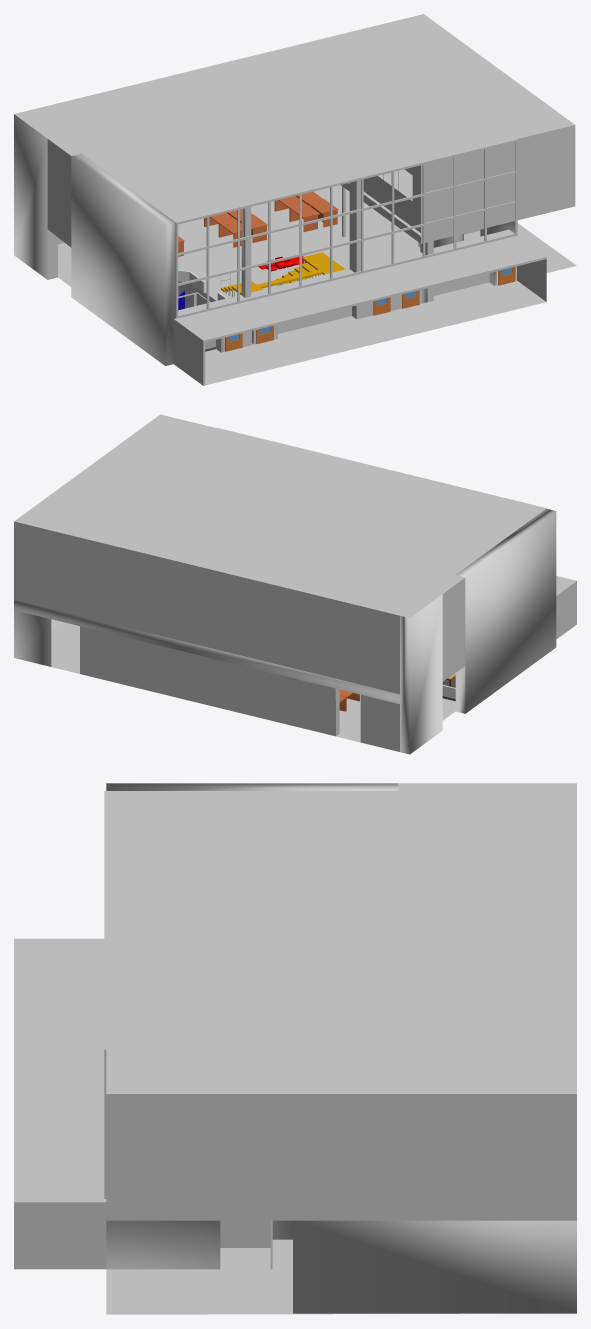
File: wall_laas15_koroibot.dae
3 renders of one model, top to bottom at view 1: azimuth 30°, elevation 25°; view 2: azimuth 150°, elevation 25°; view 3: azimuth 270°, elevation 25°, orthographic. The views are drawn at different scales.
Visible parts, largest first — view 1: wall_laas12, desktop_v2_009, node_005; view 2: wall_laas12; view 3: wall_laas12.
Part boxes in pixels (box(x1,y1,x2,y2)): wall_laas12: box(14, 14, 576, 385); desktop_v2_009: box(289, 203, 319, 232); node_005: box(302, 252, 345, 274); wall_laas12: box(14, 414, 576, 754); wall_laas12: box(14, 783, 576, 1314).
Bounding box in the file's own units: 20 × 15.25 × 6.57.
